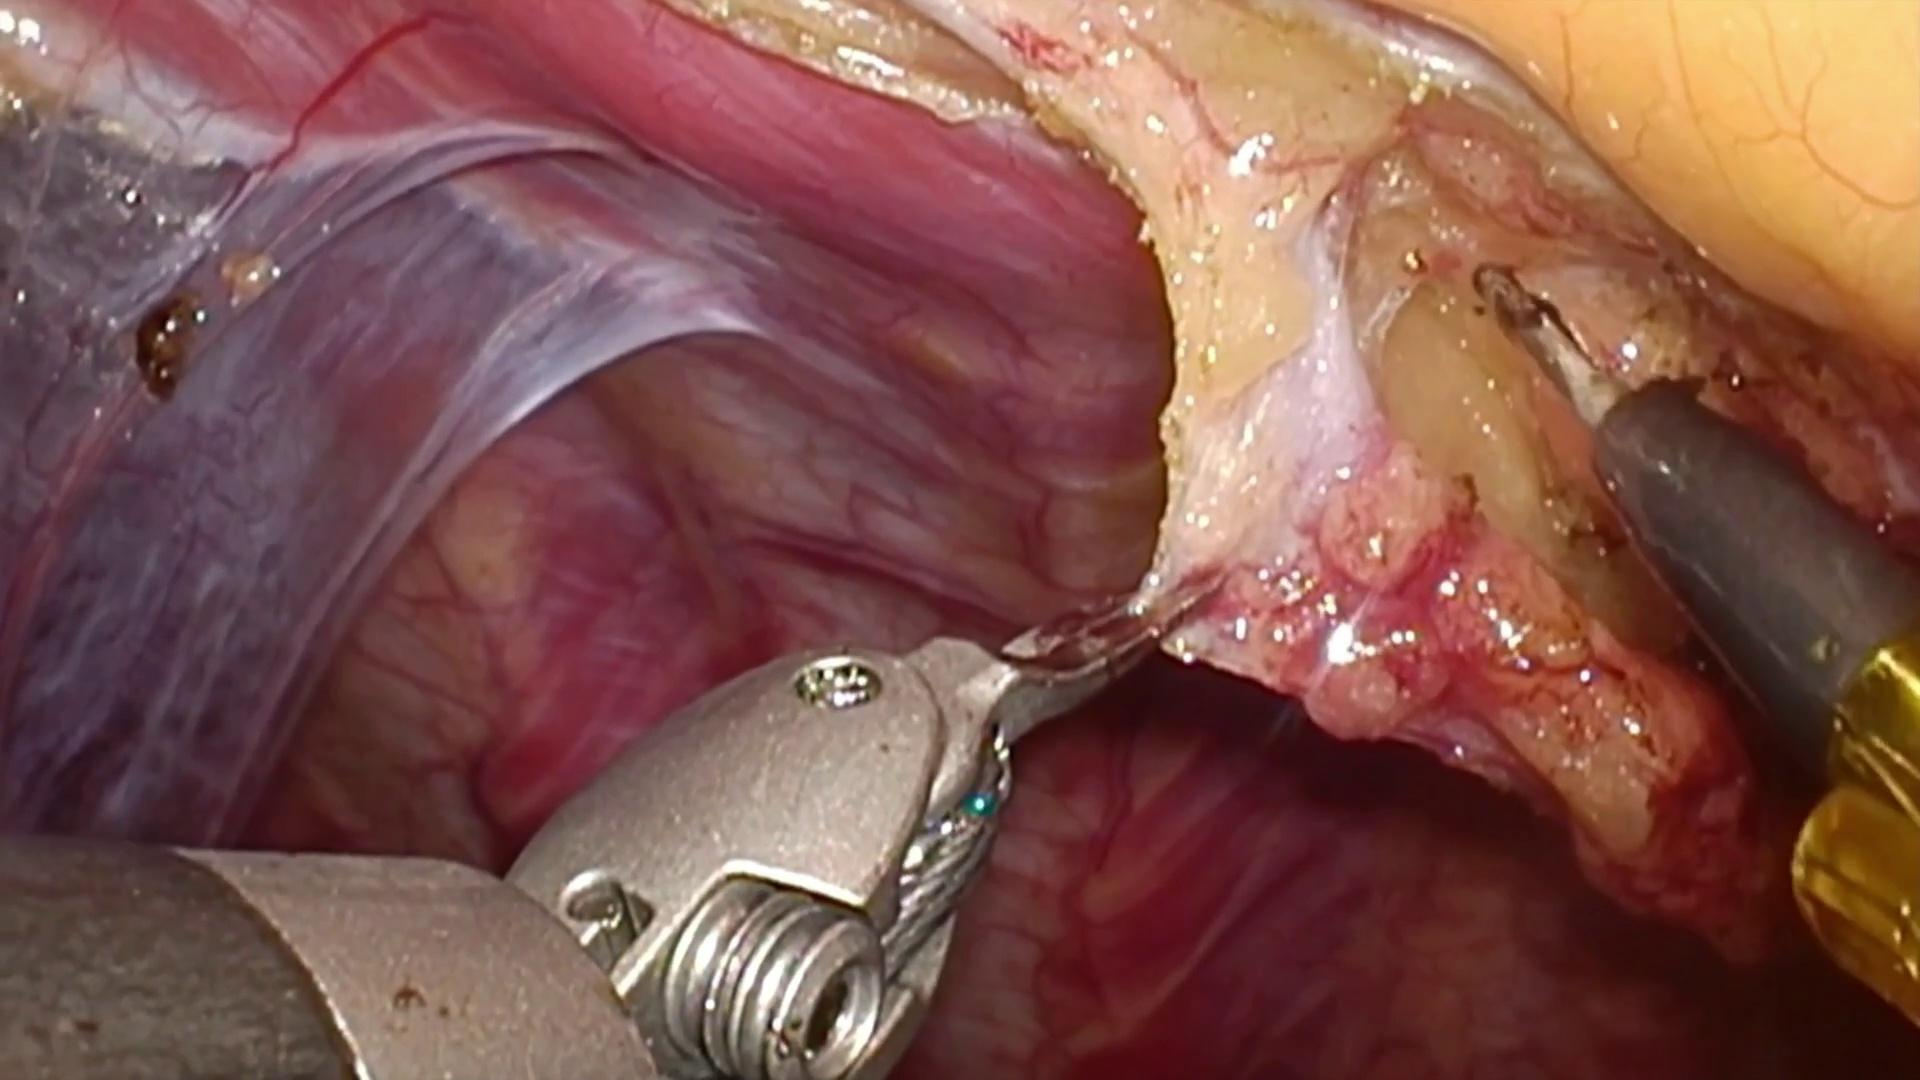Cautery_Spatula: (1476, 266, 1920, 787)
Debakey: (913, 571, 1224, 782)
